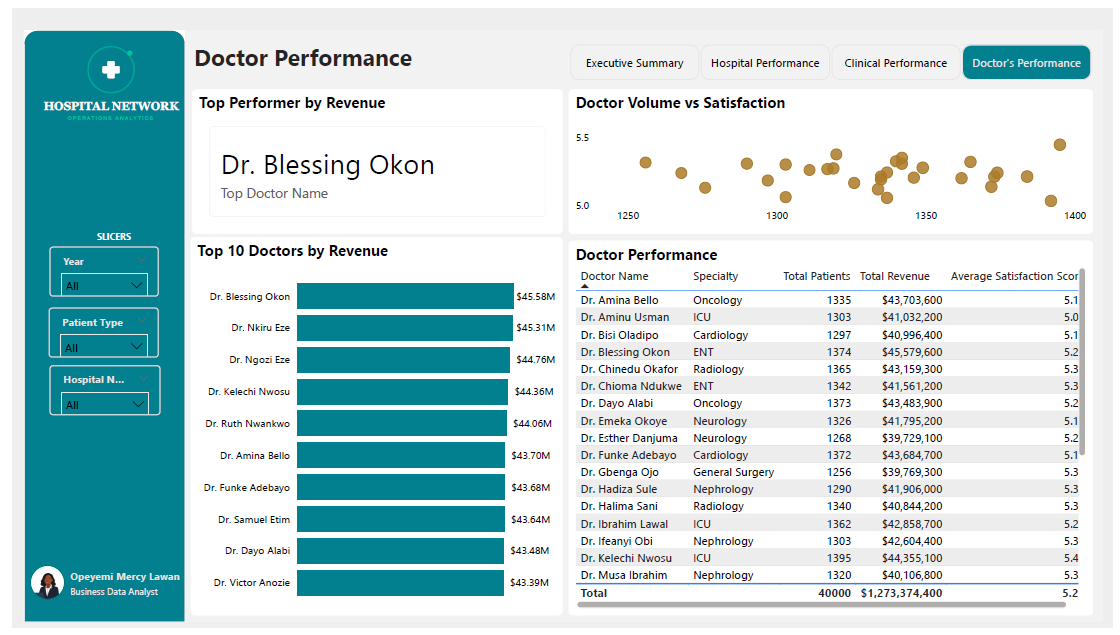

What the dashboard file says about the page in this screenshot:
{"tool":"powerbi","page":{"name":"Doctor's Performance ","canvas":[1280,720],"ordinal":3},"visuals":[{"type":"group","id":"g1","title":"Group 1","box":[14,17,1255,688],"z":0},{"type":"shape","box":[14,17,1255,688],"z":0,"group":"g1"},{"type":"shape","box":[14.9,17.9,186.3,687.1],"z":1000,"group":"g1"},{"type":"slicer","fields":{"Values":["DimDate.Year"]},"box":[23.9,203.9,130.3,65.6],"z":1000},{"type":"slicer","fields":{"Values":["dimpatienttype.patienttype"]},"box":[23.9,278.4,130.3,63.8],"z":2000},{"type":"slicer","fields":{"Values":["dimhospital.hospitalname"]},"box":[23.9,350.2,130.3,62.1],"z":3000},{"type":"textbox","box":[52.3,172,95.8,33.7],"z":4000},{"type":"pageNavigator","box":[33.7,448.7,150.7,172.9],"z":5000},{"type":"image","box":[33.7,24.8,161.4,133.9],"z":6000},{"type":"tableEx","title":"Doctor Performance","fields":{"Values":["dimdoctor.doctorname","dimdoctor.specialty","Core KPIs.Total Patients","Core KPIs.Total Revenue","Core KPIs.Average Satisfaction Score"]},"box":[647,270,610,423],"z":7000},{"type":"clusteredBarChart","title":"Top 10 Doctors by Revenue","fields":{"Category":["dimdoctor.doctorname"],"Y":["Core KPIs.Total Revenue"]},"box":[207,266,433,427],"z":8000},{"type":"scatterChart","title":"Doctor Volume vs Satisfaction","fields":{"Category":["dimdoctor.doctorname"],"X":["Core KPIs.Total Patients"],"Y":["Core KPIs.Average Satisfaction Score"],"Size":["Core KPIs.Total Revenue"]},"box":[647,94,610,168],"z":9000},{"type":"cardVisual","title":"Top Performer by Revenue","fields":{"Data":["Core KPIs.Top Doctor Name"]},"box":[209.3,94,430.9,167.6],"z":10000},{"type":"textbox","box":[207.3,24.7,371.8,50.3],"z":13001,"group":"g1"}]}

Visuals, with their boxes in screenshot pixels (x1, y1, x2, y2), scaled from the page's 1280x720 canvas onto the 1120x635 screenshot:
"Group 1" group: (x1=12, y1=15, x2=1110, y2=622)
shape: (x1=12, y1=15, x2=1110, y2=622)
shape: (x1=13, y1=16, x2=176, y2=622)
slicer - DimDate.Year: (x1=21, y1=180, x2=135, y2=238)
slicer - dimpatienttype.patienttype: (x1=21, y1=246, x2=135, y2=302)
slicer - dimhospital.hospitalname: (x1=21, y1=309, x2=135, y2=364)
textbox: (x1=46, y1=152, x2=130, y2=181)
pageNavigator: (x1=29, y1=396, x2=161, y2=548)
image: (x1=29, y1=22, x2=171, y2=140)
"Doctor Performance" tableEx: (x1=566, y1=238, x2=1100, y2=611)
"Top 10 Doctors by Revenue" clusteredBarChart: (x1=181, y1=235, x2=560, y2=611)
"Doctor Volume vs Satisfaction" scatterChart: (x1=566, y1=83, x2=1100, y2=231)
"Top Performer by Revenue" cardVisual: (x1=183, y1=83, x2=560, y2=231)
textbox: (x1=181, y1=22, x2=507, y2=66)
